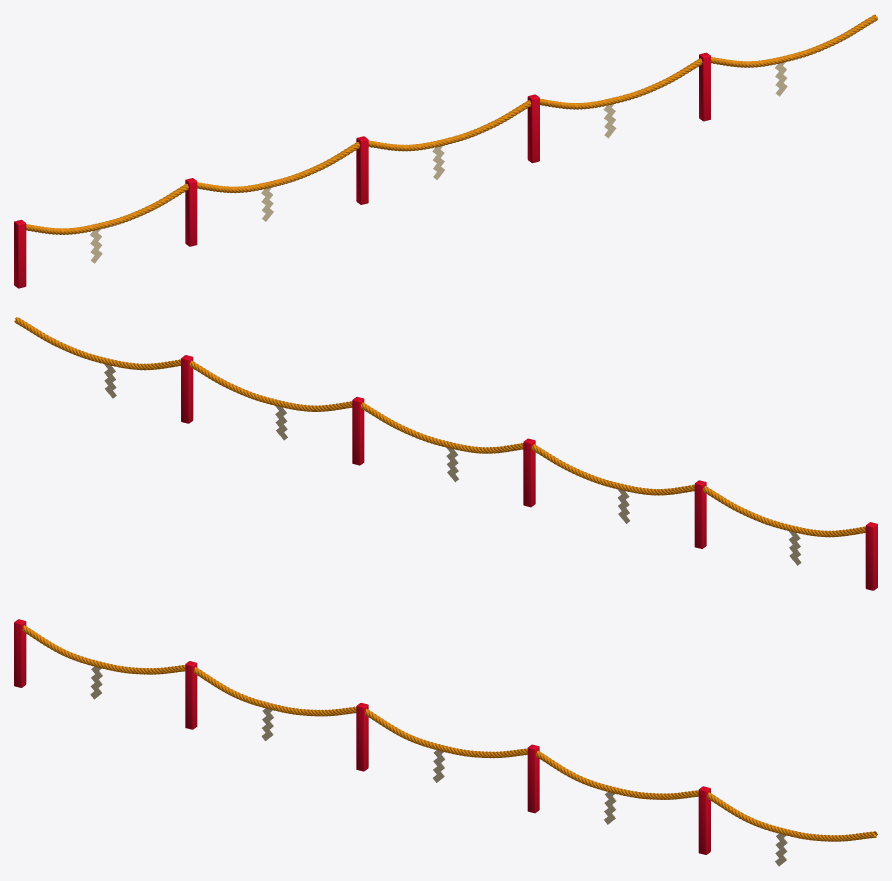
File: FenceLength5.fbx
The picture shows the model from 3 angles, top to bottom: view 1: azimuth 30°, elevation 25°; view 2: azimuth 150°, elevation 25°; view 3: azimuth 330°, elevation 25°; orthographic projection.
Parts seen in each view (by area): view 1: Fence; view 2: Fence; view 3: Fence.
Boxes of the visible parts, bbox=[...] form: Fence: bbox=[14, 14, 877, 288]; Fence: bbox=[14, 317, 877, 590]; Fence: bbox=[14, 619, 877, 866].
Size of the model in its own units: 868 by 61.97 by 8.28.
